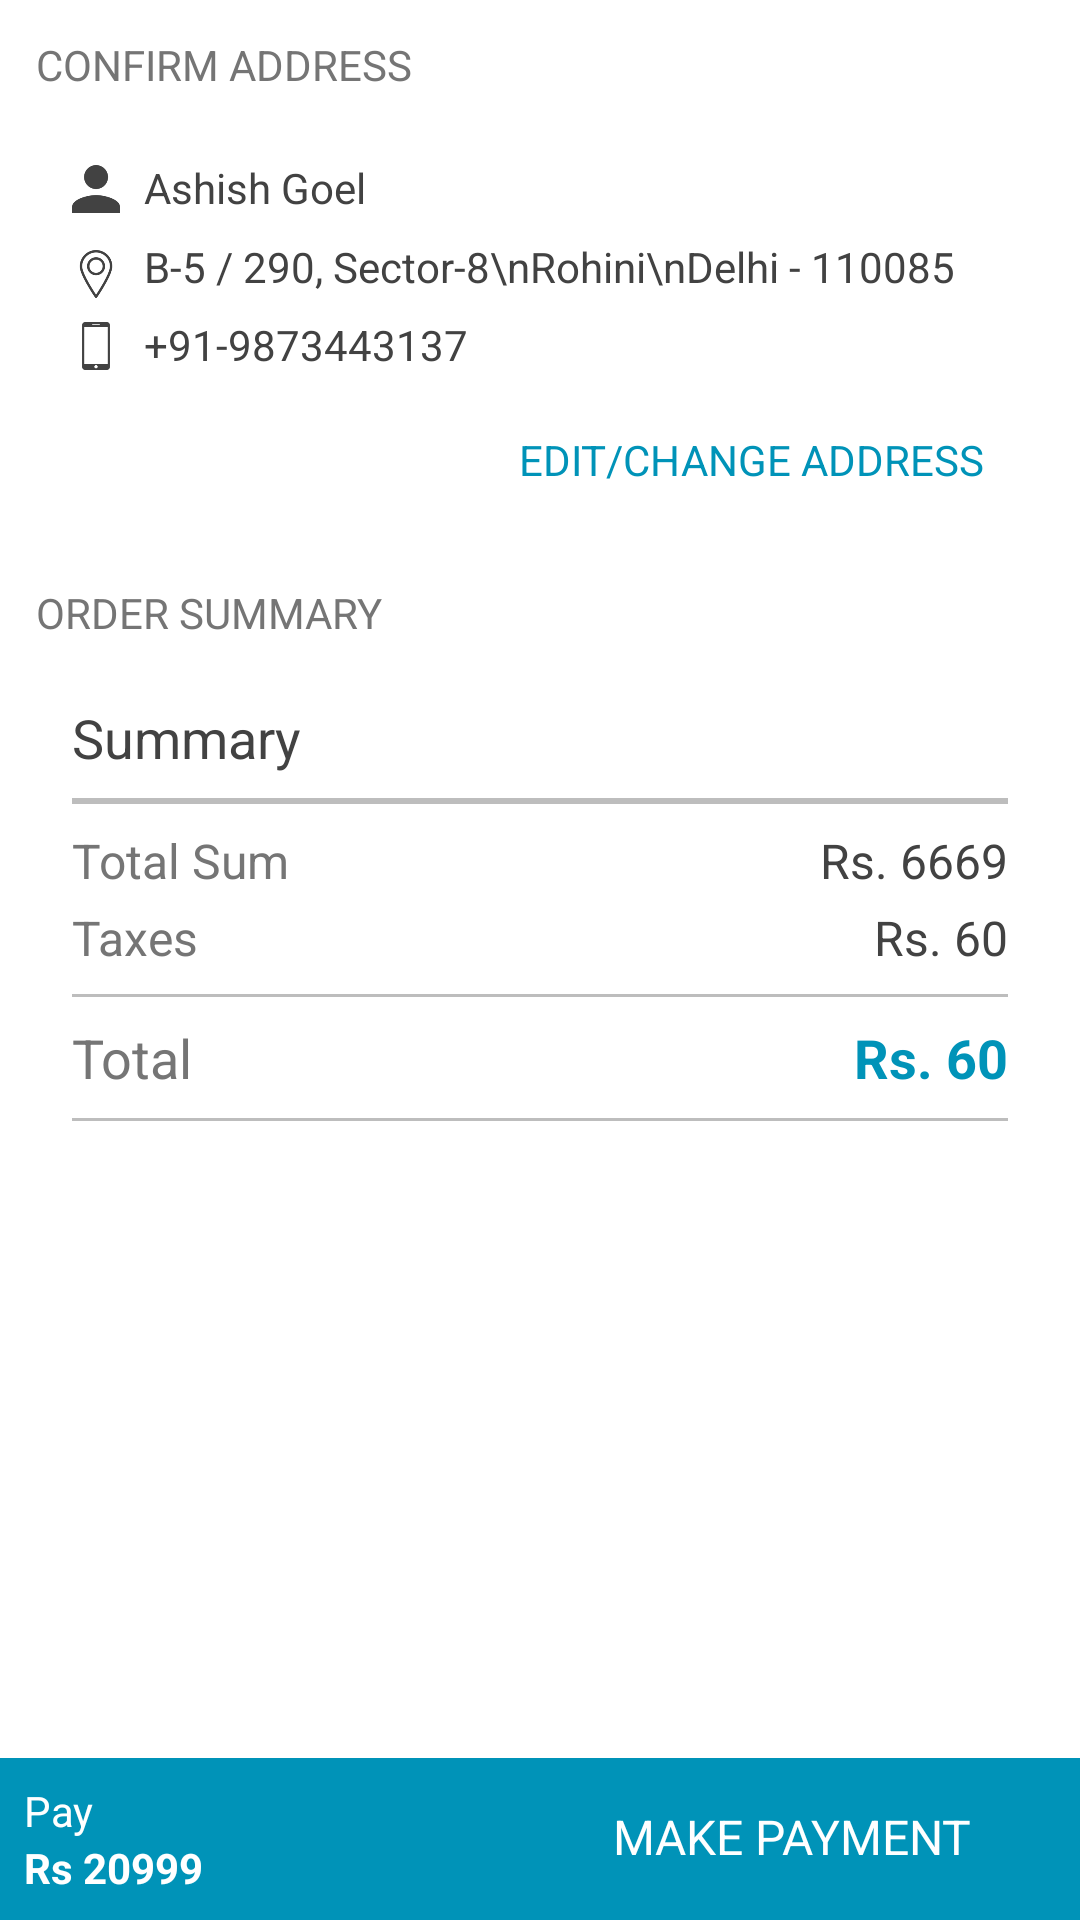

Locate icon controls on the screen. Image size 1080x1920, boxes as (x1, y1, x2, y2).
location: (80, 250, 113, 298)
smartphone: (82, 322, 110, 370)
user: (72, 165, 120, 213)
